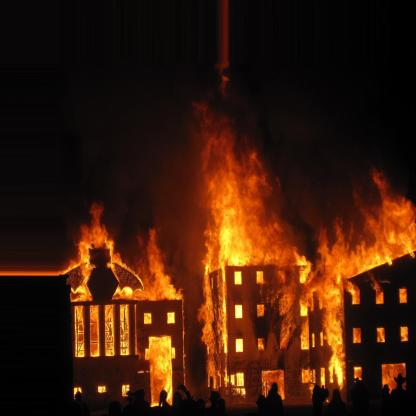fire: (197, 64, 322, 402), (58, 186, 184, 406), (324, 146, 412, 404)
